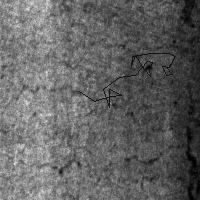crazing: (79, 53, 175, 107), (2, 83, 84, 135), (121, 109, 185, 164), (2, 143, 100, 178)
